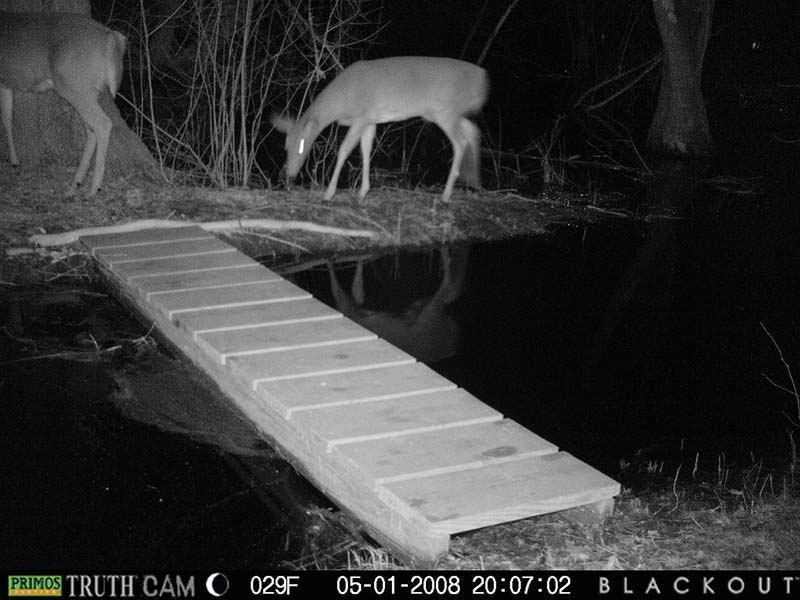cervo: (266, 50, 490, 204), (1, 13, 132, 182)
